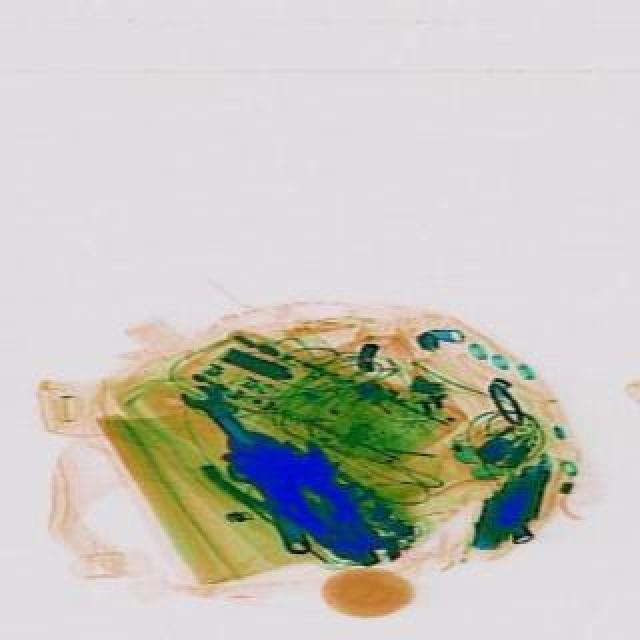scissors: (172, 372, 264, 460)
